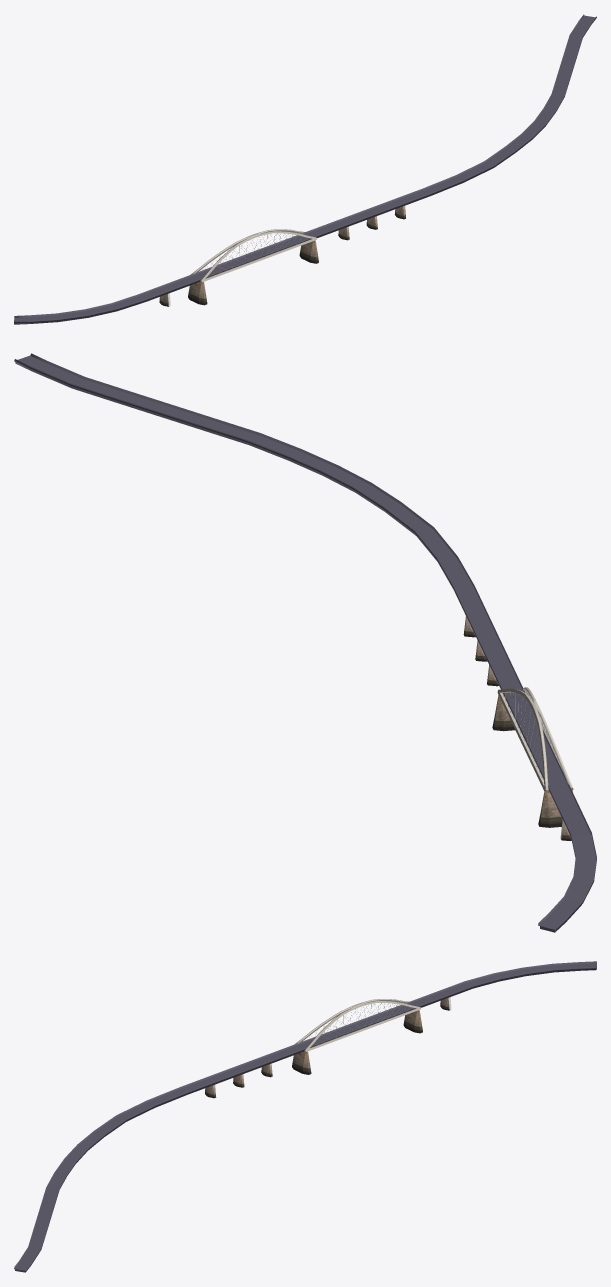
The model's file is merivale_railway_bridge_-_low_poly.glb.
3 views of the same model, one above another, from view 1: azimuth 90°, elevation 25°; view 2: azimuth 150°, elevation 25°; view 3: azimuth 270°, elevation 25° (orthographic). The views are drawn at different scales.
Parts seen in each view (by area): view 1: Merivale Bridge.001_0, Merivale Bridge_1; view 2: Merivale Bridge.001_0, Merivale Bridge_1; view 3: Merivale Bridge.001_0, Merivale Bridge_1.
Boxes of the visible parts, x1,y1,x2,y2 form: Merivale Bridge.001_0: (14,14,596,324); Merivale Bridge_1: (188,229,318,305); Merivale Bridge.001_0: (14,353,596,932); Merivale Bridge_1: (492,687,573,827); Merivale Bridge.001_0: (14,961,596,1272); Merivale Bridge_1: (292,999,422,1074).
Size of the model in its own units: 20.81 by 1.41 by 16.66.
1 material, 1 textured.
